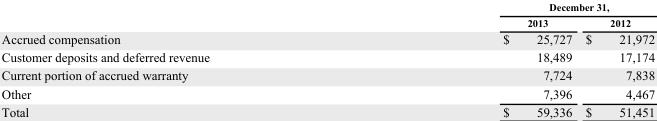table: (0, 1, 654, 118)
table column: (0, 1, 355, 118), (355, 1, 578, 118), (578, 1, 654, 118)
table column header: (0, 1, 654, 29)
table row: (0, 47, 654, 66), (0, 29, 654, 47), (0, 66, 654, 84), (0, 84, 654, 102), (0, 102, 654, 118), (0, 14, 654, 29), (0, 1, 654, 14)
table spanning cell: (355, 1, 654, 14)
